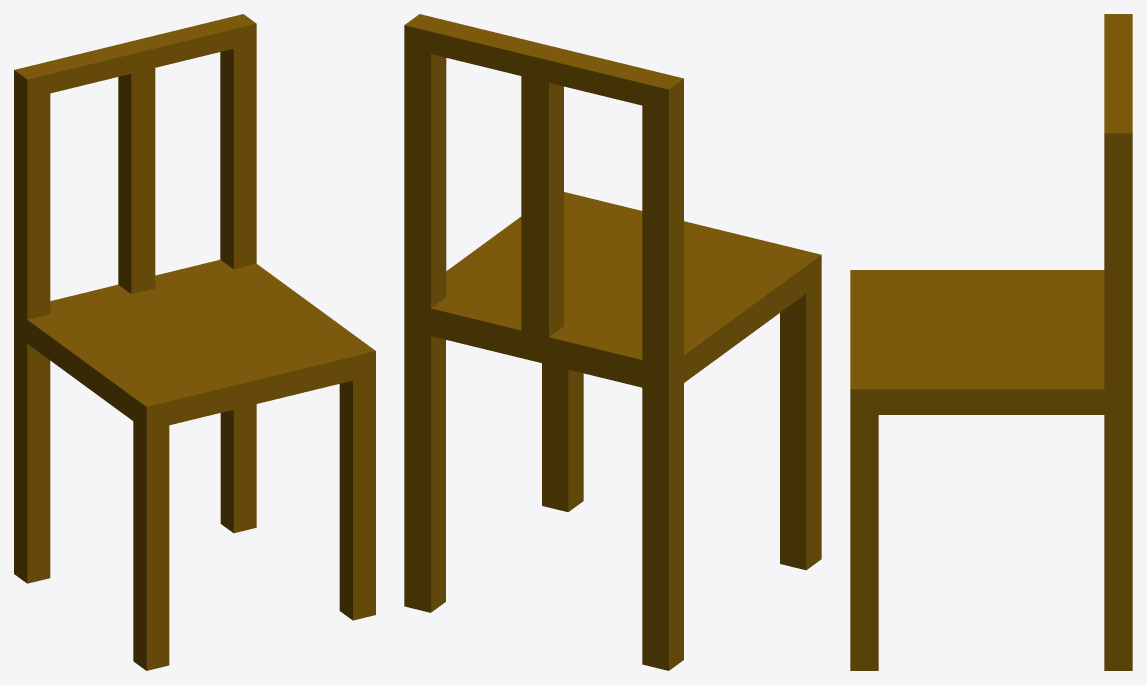
The model's file is BreakableChair.fbx.
3 views of the same model, side by side, from view 1: azimuth 30°, elevation 25°; view 2: azimuth 150°, elevation 25°; view 3: azimuth 270°, elevation 25° (orthographic). The views are drawn at different scales.
Visible parts, largest first — view 1: Chair, ChairTop.001, Leg4.001; view 2: Chair, ChairTop.001, Leg4.001, Leg3.001, Leg2.001, Leg2.001_cell.002, Leg4.001_cell.004, Leg3.001_cell.003, Leg3.001_cell, Leg2.001_cell.004, Leg1.001_cell.004, Leg1.001_cell (+4 smaller); view 3: Chair, ChairTop.001, Leg1.001, Leg2.001, Leg1.001_cell.003, Leg2.001_cell.002, Leg1.001_cell.005.
Boxes of the visible parts, x1,y1,x2,y2 form: Chair: (14, 49, 375, 670); ChairTop.001: (14, 14, 256, 319); Leg4.001: (14, 336, 27, 582); Chair: (404, 25, 821, 665); ChairTop.001: (404, 14, 683, 365); Leg4.001: (642, 383, 683, 670); Leg3.001: (780, 290, 820, 569); Leg2.001: (404, 329, 430, 610); Leg2.001_cell.002: (404, 467, 430, 610); Leg4.001_cell.004: (642, 512, 668, 631); Leg3.001_cell.003: (780, 318, 805, 465); Leg3.001_cell: (780, 464, 821, 561); Leg2.001_cell.004: (431, 336, 445, 469); Leg1.001_cell.004: (542, 383, 568, 467); Leg1.001_cell: (542, 457, 582, 511); Chair: (850, 133, 1132, 651); ChairTop.001: (1104, 14, 1132, 389); Leg1.001: (850, 415, 878, 670); Leg2.001: (1104, 415, 1132, 670); Leg1.001_cell.003: (850, 415, 878, 509); Leg2.001_cell.002: (1104, 540, 1132, 669); Leg1.001_cell.005: (850, 496, 878, 549).
Size of the model in its own units: 200 by 420 by 200.
